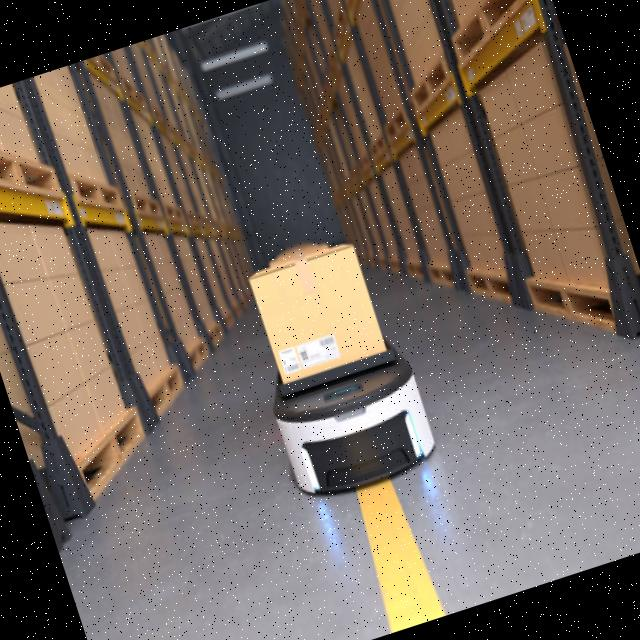Wooden-Pallets: (77, 392, 152, 500), (449, 0, 529, 68), (523, 276, 616, 330), (0, 149, 69, 200)
